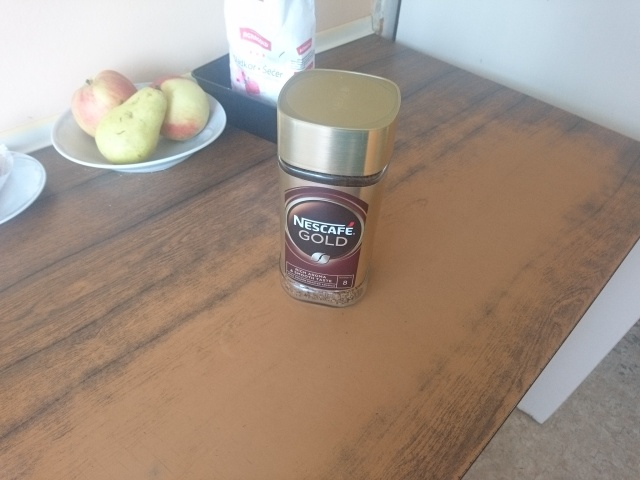Nescafe Gold 225g: (273, 66, 405, 312)
